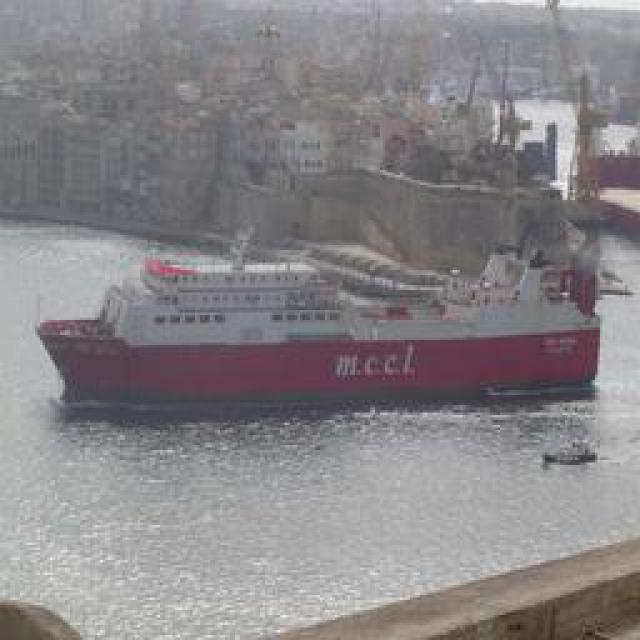Ship: (39, 206, 612, 411)
